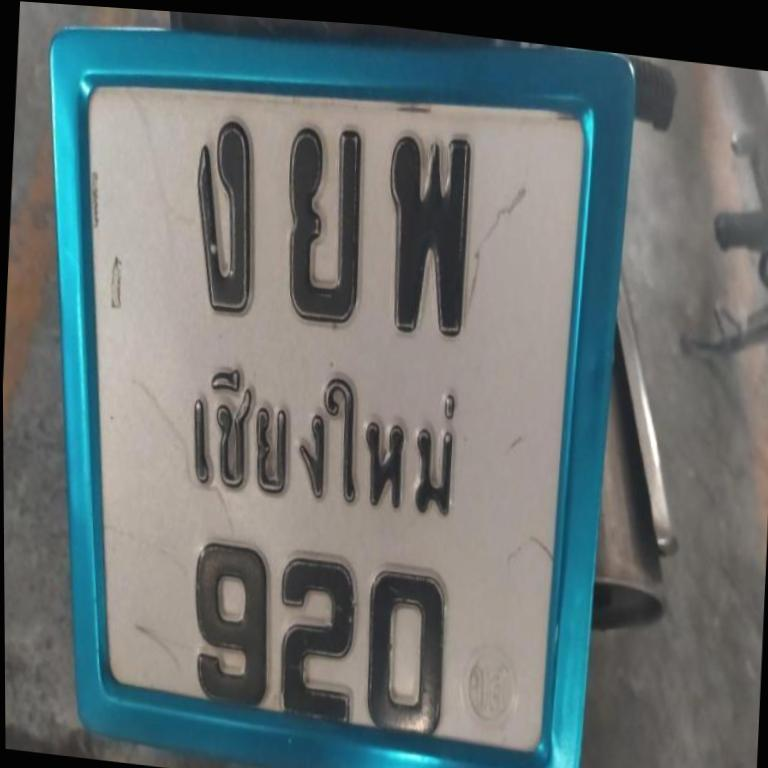license plate: (12, 1, 640, 768)
